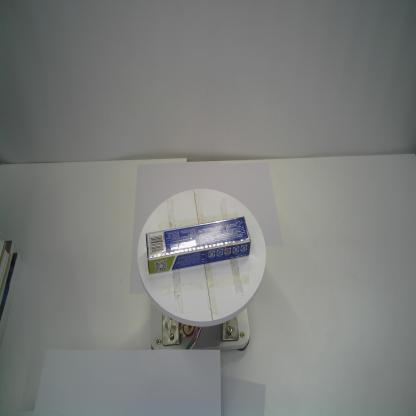Personal Hygiene: (145, 215, 251, 277)
